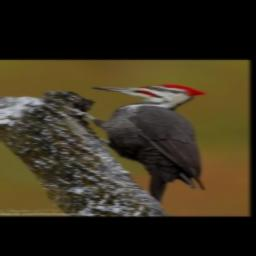Woodpecker: (65, 84, 208, 206)
